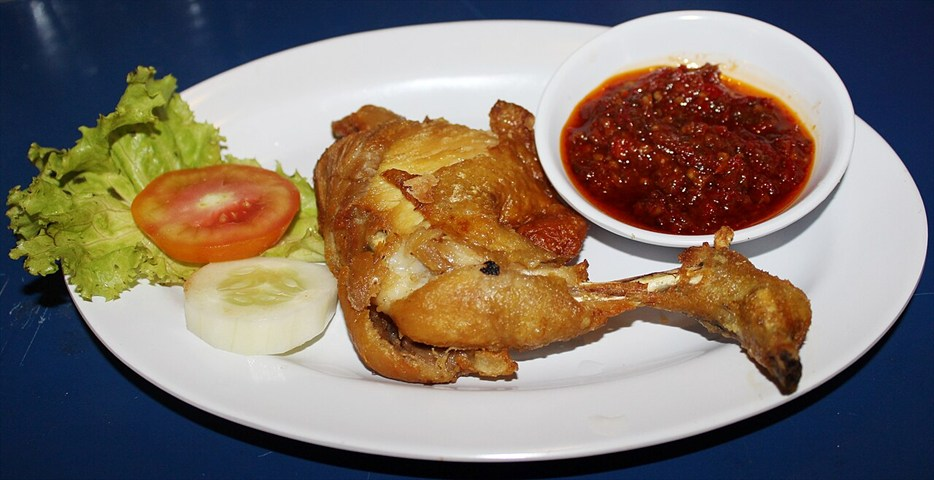Ayam Goreng: (107, 55, 838, 389)
